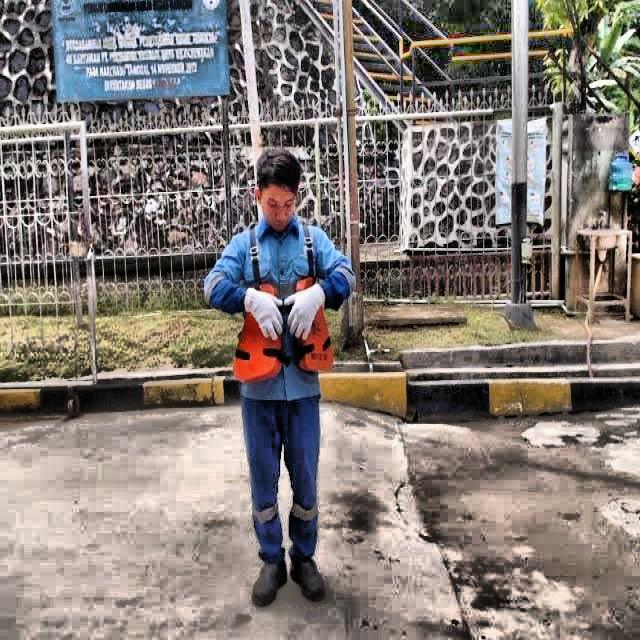safety_jacket: (234, 283, 334, 377)
